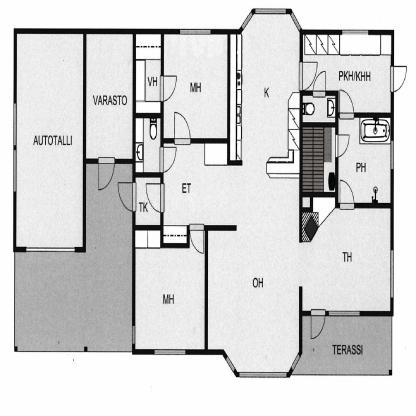door: (144, 181, 166, 215), (388, 64, 409, 98), (174, 110, 193, 147), (97, 156, 115, 194), (338, 90, 356, 128), (297, 61, 318, 90), (310, 308, 326, 346), (340, 180, 356, 217), (117, 181, 136, 212), (333, 134, 353, 163), (308, 69, 328, 96), (158, 148, 178, 172), (160, 76, 176, 102)
window: (238, 370, 286, 380), (154, 345, 186, 358), (12, 104, 16, 192), (390, 248, 396, 300), (254, 6, 286, 15), (240, 9, 253, 29), (180, 28, 212, 35), (389, 140, 396, 170), (291, 12, 300, 34), (226, 356, 235, 374), (341, 29, 368, 35), (328, 312, 360, 316), (131, 324, 135, 345)
zone: (161, 141, 306, 380), (18, 162, 132, 353), (229, 5, 313, 187), (16, 32, 82, 246), (300, 195, 389, 310), (135, 230, 204, 348), (303, 34, 390, 111), (164, 33, 226, 136), (294, 315, 393, 377), (85, 35, 131, 158), (338, 120, 391, 202), (302, 126, 334, 190), (136, 33, 160, 112), (136, 118, 160, 171), (136, 176, 160, 224), (303, 96, 334, 120)
